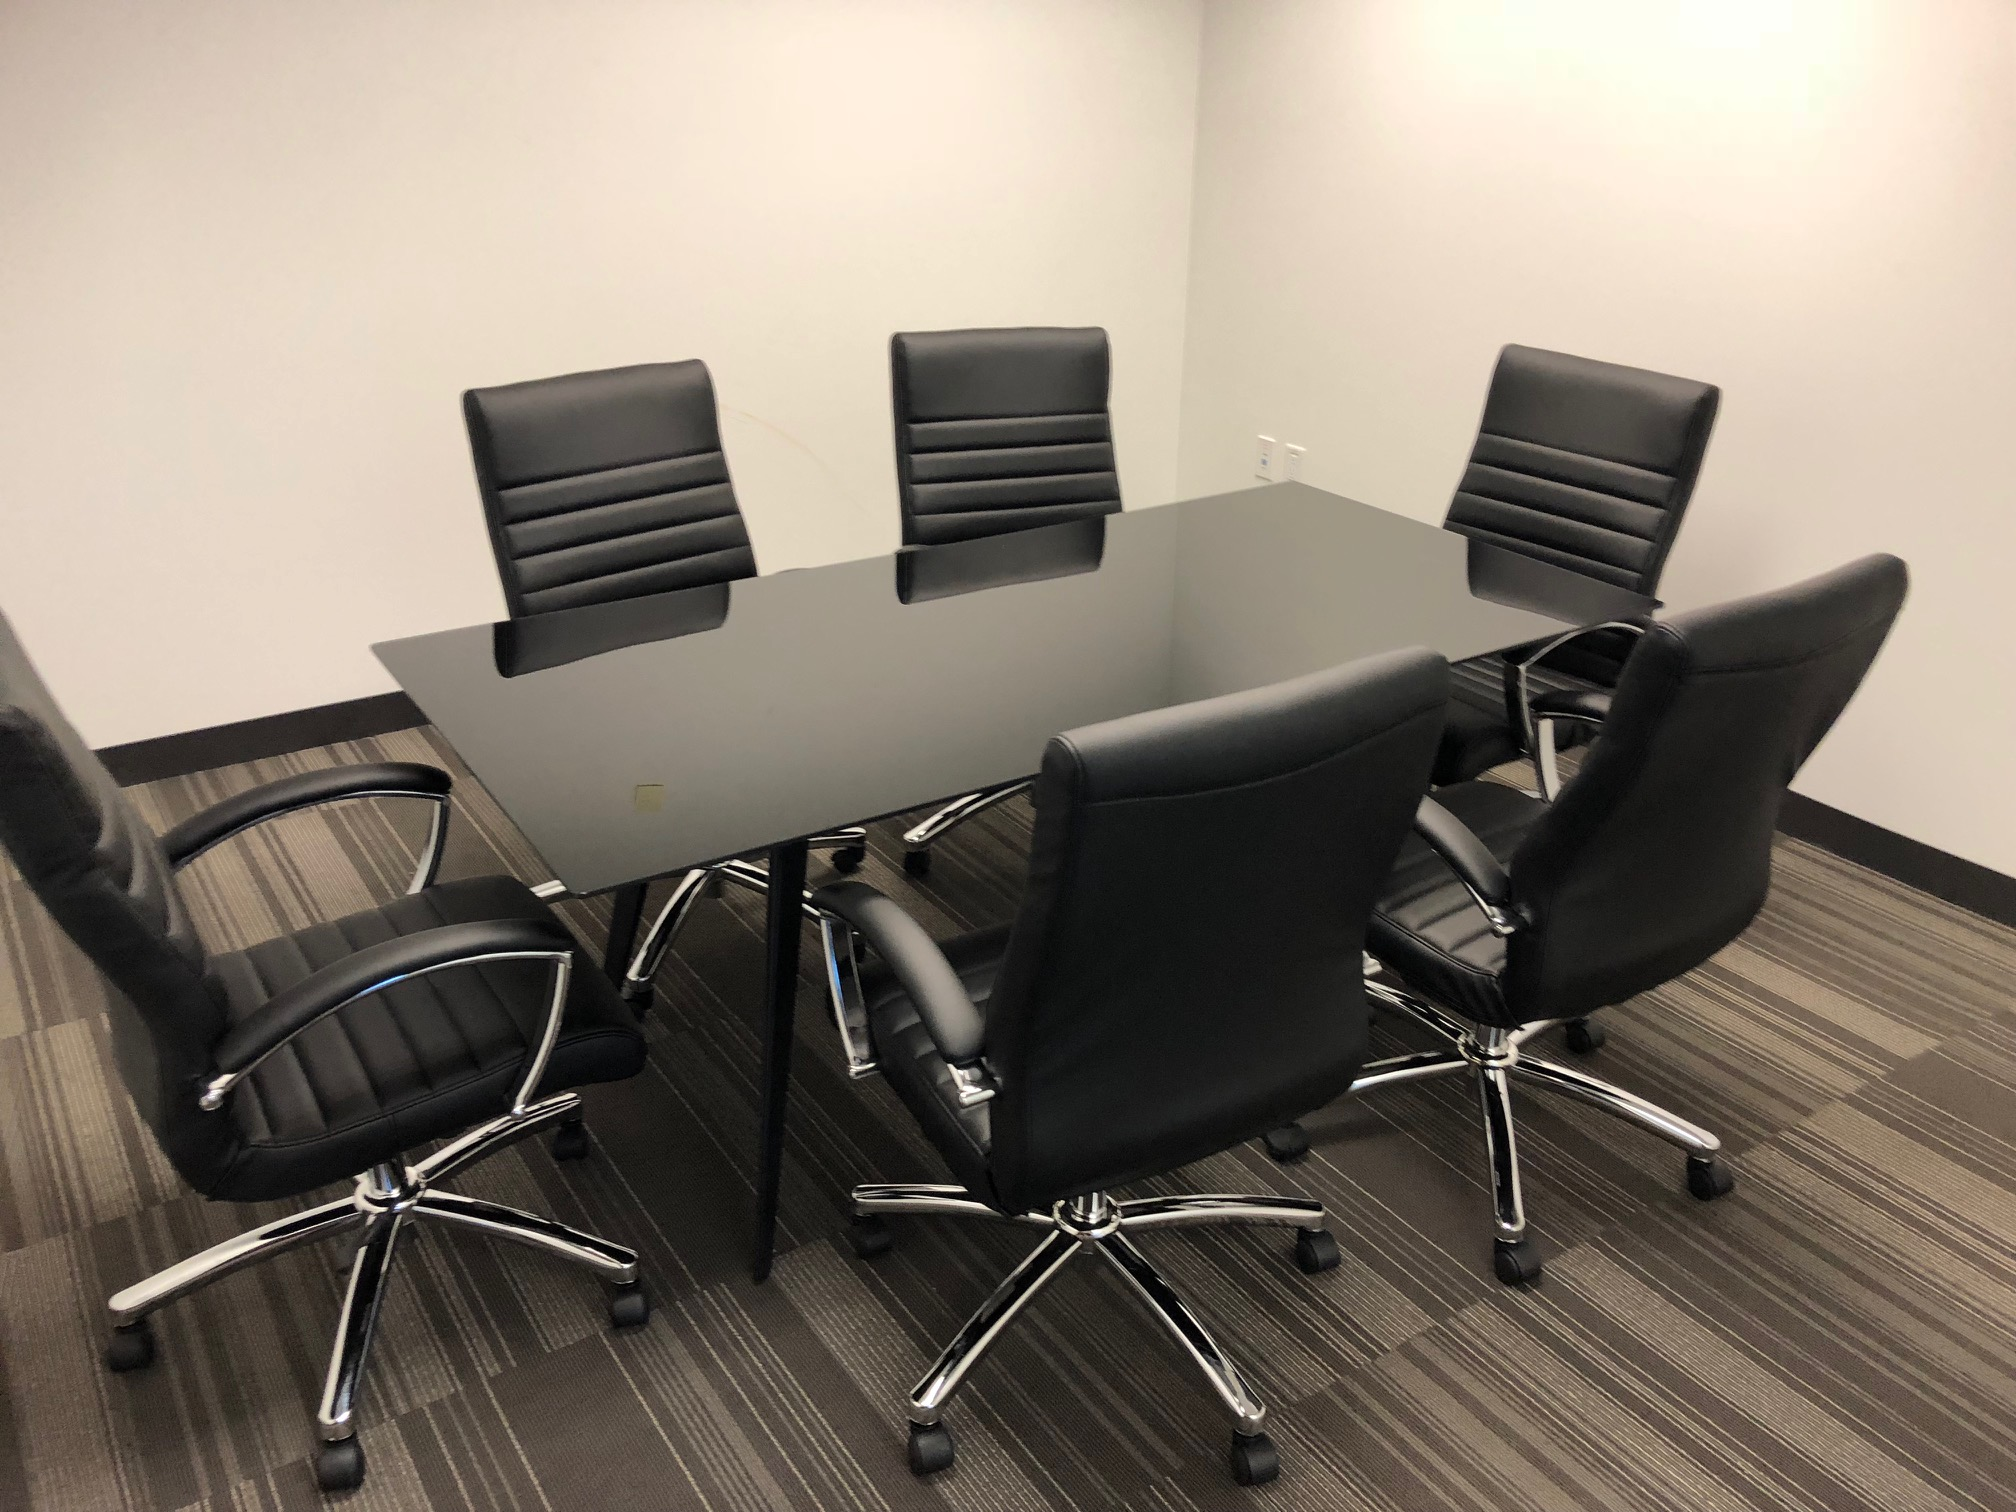conference_table: (375, 484, 1691, 1280)
